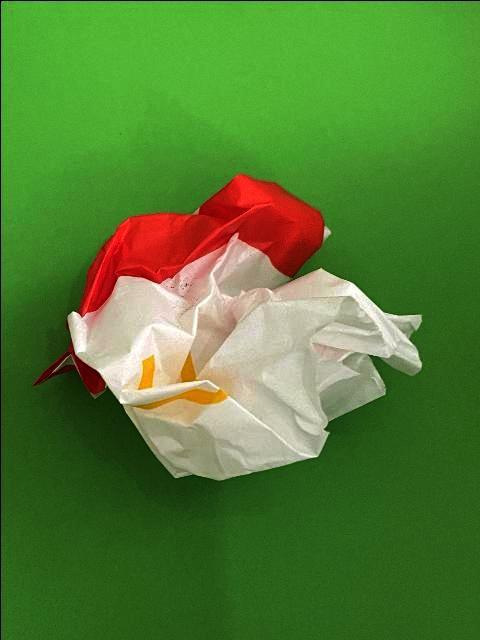paperbag: (31, 172, 424, 482)
